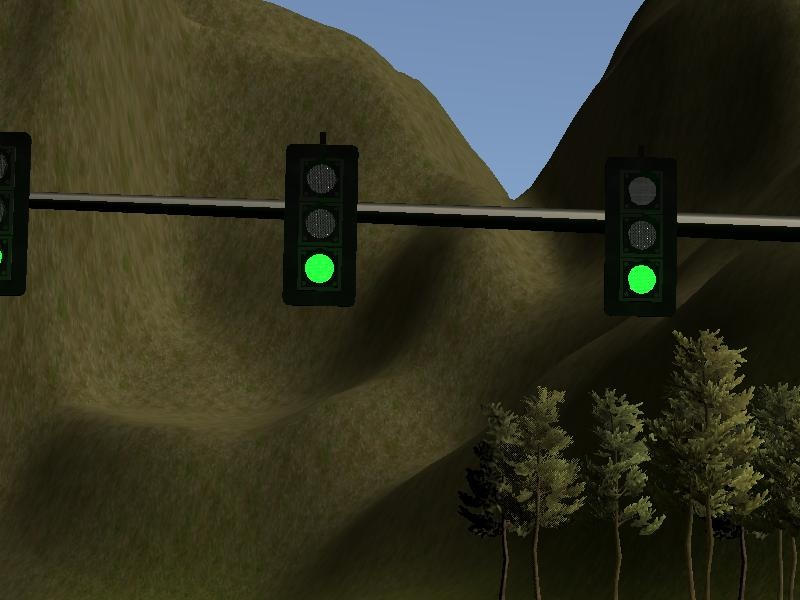green: (281, 141, 359, 310), (602, 150, 680, 319)
